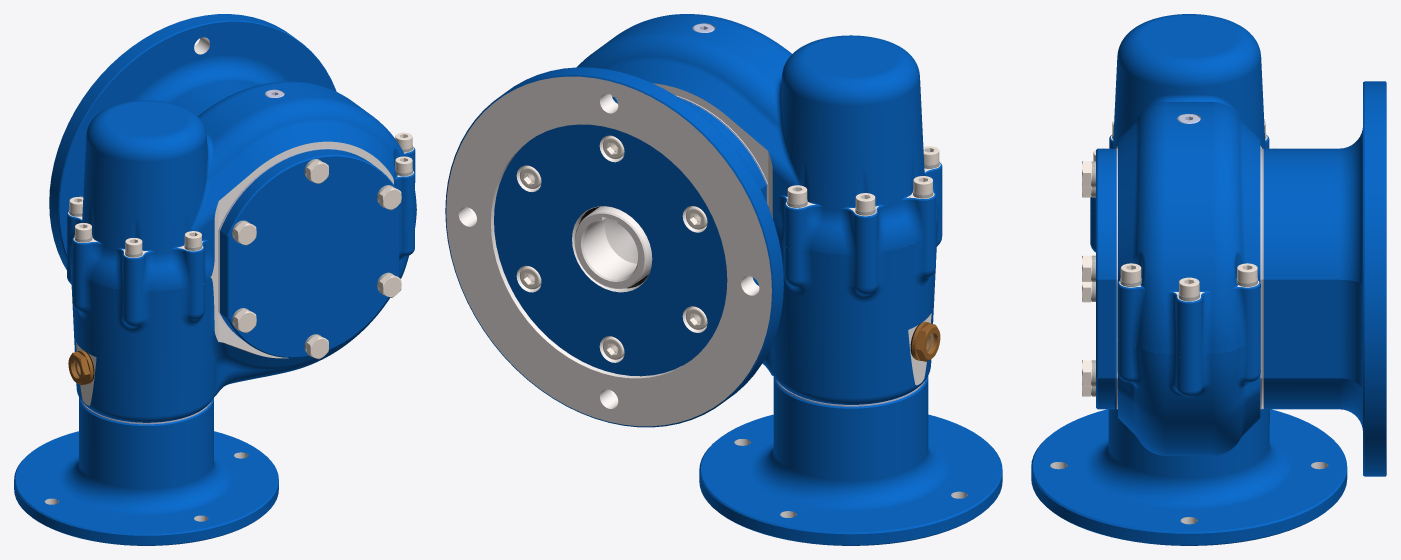
File: reductor.glb
3 views of the same model, side by side, from view 1: azimuth 30°, elevation 25°; view 2: azimuth 150°, elevation 25°; view 3: azimuth 270°, elevation 25° (orthographic). The views are drawn at different scales.
Parts seen in each view (by area): view 1: Carcassa Superior-1, Brides Roda-1/Tapa Roda-1, Brida Vis-2/Brida Vis-1, Carcassa Inferior-1, Brides Roda-1/Brida Roda-1, 5095K112_Nivell Oli-1; view 2: Brides Roda-1/Brida Roda-1, Carcassa Superior-1, Brida Vis-2/Brida Vis-1, Carcassa Inferior-1, Eix Roda-1, 5095K112_Nivell Oli-1; view 3: Carcassa Superior-1, Brides Roda-1/Brida Roda-1, Brida Vis-2/Brida Vis-1, Carcassa Inferior-1, Brides Roda-1/Tapa Roda-1.
Boxes of the visible parts, x1,y1,x2,y2 form: Carcassa Superior-1: (67,81,416,294); Brides Roda-1/Tapa Roda-1: (220,149,399,357); Brida Vis-2/Brida Vis-1: (14,397,278,545); Carcassa Inferior-1: (67,212,416,422); Brides Roda-1/Brida Roda-1: (49,14,336,269); 5095K112_Nivell Oli-1: (68,350,94,384); Brides Roda-1/Brida Roda-1: (445,67,783,427); Carcassa Superior-1: (577,14,942,257); Brida Vis-2/Brida Vis-1: (699,376,1002,545); Carcassa Inferior-1: (762,206,942,404); Eix Roda-1: (574,206,652,288); 5095K112_Nivell Oli-1: (910,321,940,361); Carcassa Superior-1: (1090,14,1269,359); Brides Roda-1/Brida Roda-1: (1262,81,1386,476); Brida Vis-2/Brida Vis-1: (1031,408,1347,545); Carcassa Inferior-1: (1090,212,1260,455); Brides Roda-1/Tapa Roda-1: (1096,148,1116,409).
Bounding box in the file's own units: 0.337 × 0.3175 × 0.225.
